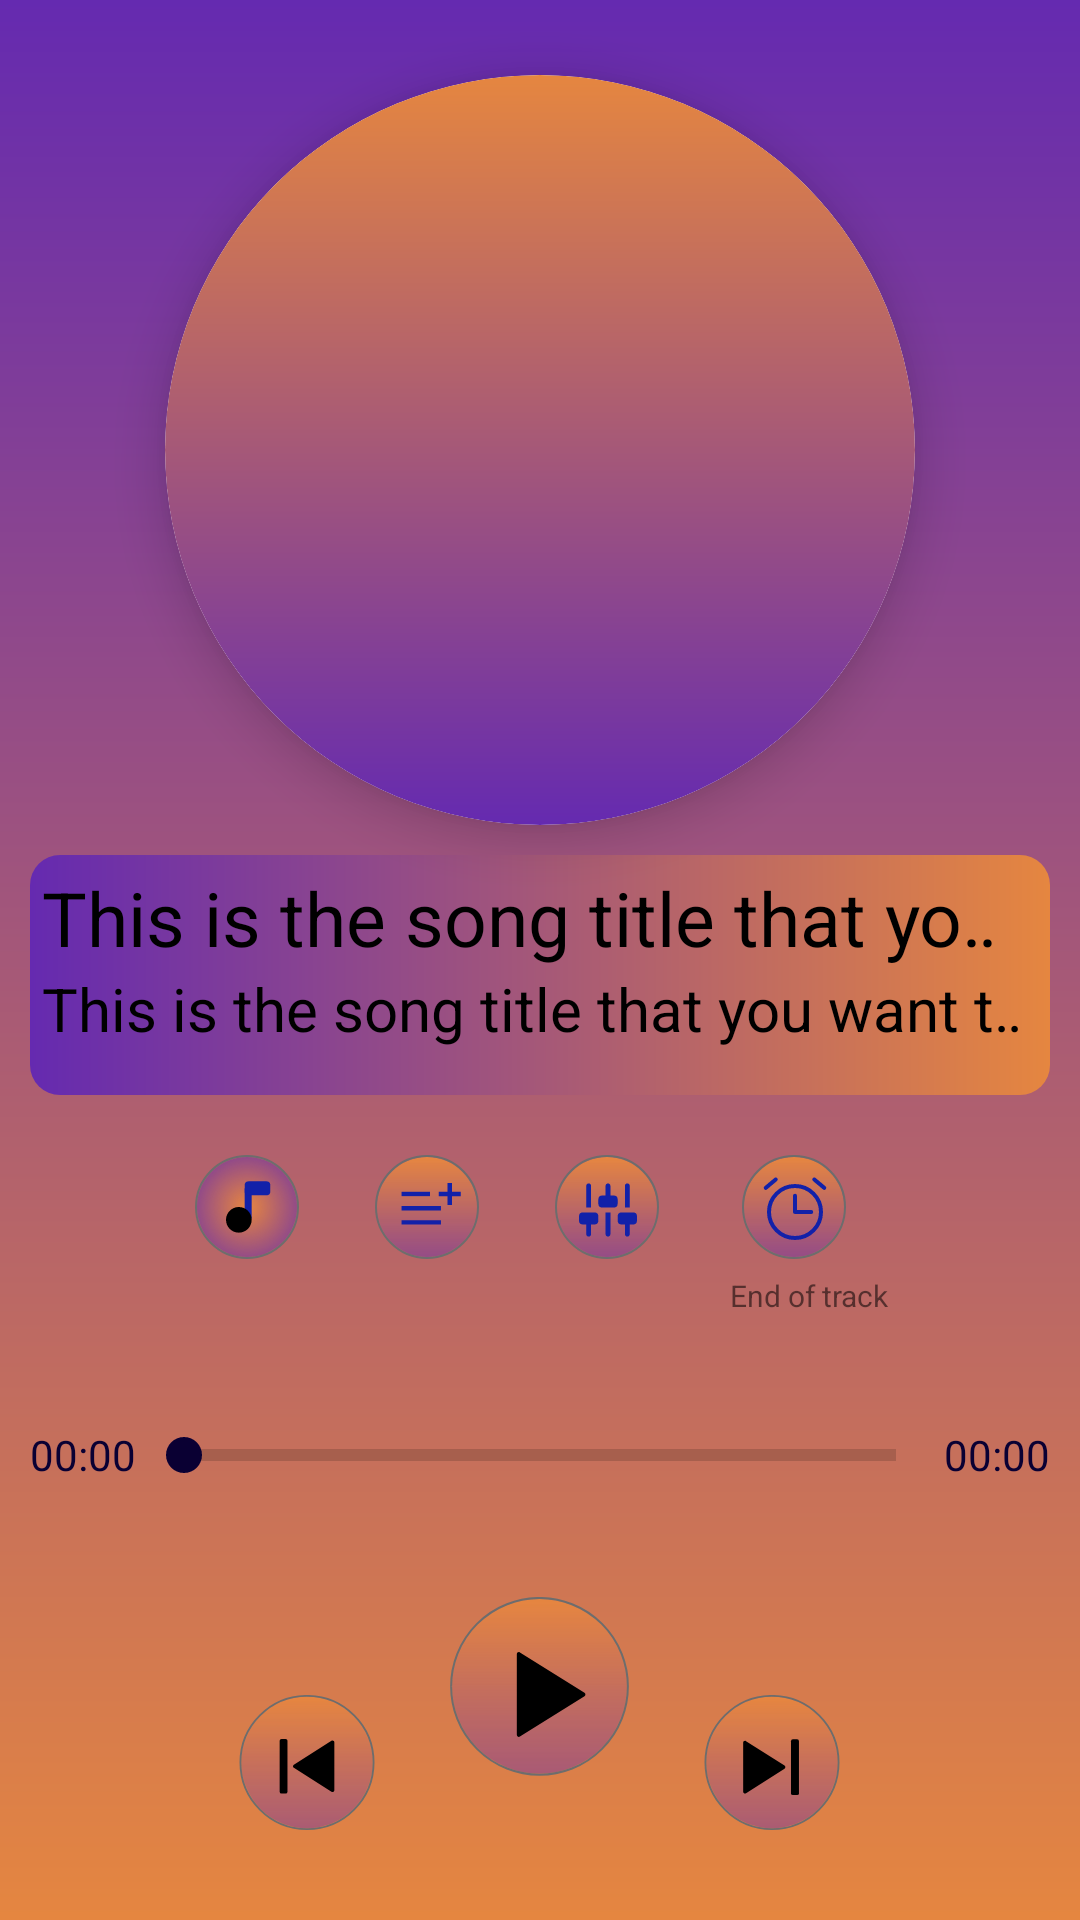

Icons on this 1080 x 1920 Android screen, each with the point to tap as point (x, y):
add to playlist: point (427, 1207)
equalizer: point (607, 1207)
next: point (772, 1762)
play: point (539, 1686)
prev: point (307, 1762)
timer: point (794, 1207)
